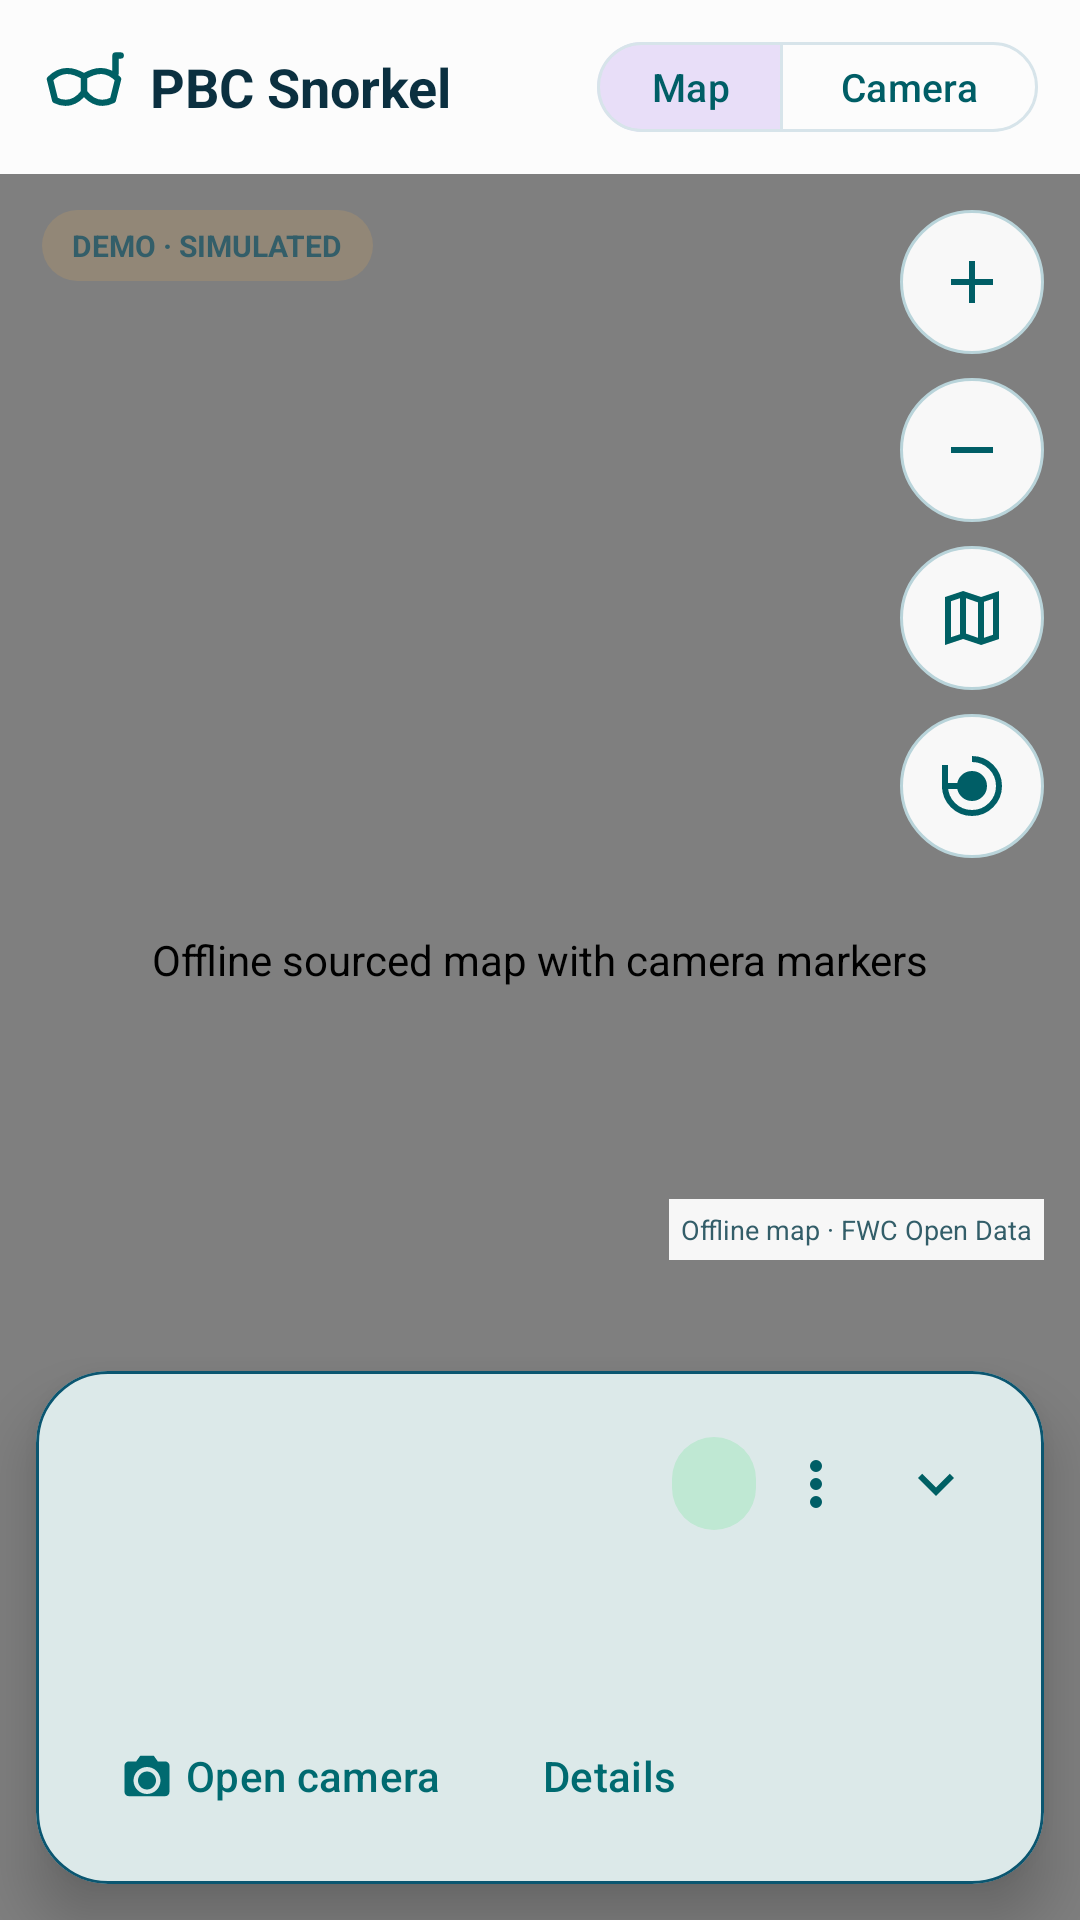

Screen size 1080w x 1920h. Icon name, then its box in pixels as BBox(x1, y1, x2, y2):
Expand details: BBox(918, 1474, 954, 1496)
Recenter selected camera: BBox(900, 714, 1044, 858)
Show all cameras: BBox(900, 546, 1044, 690)
Zoom in: BBox(900, 210, 1044, 354)
Zoom out: BBox(900, 378, 1044, 522)
